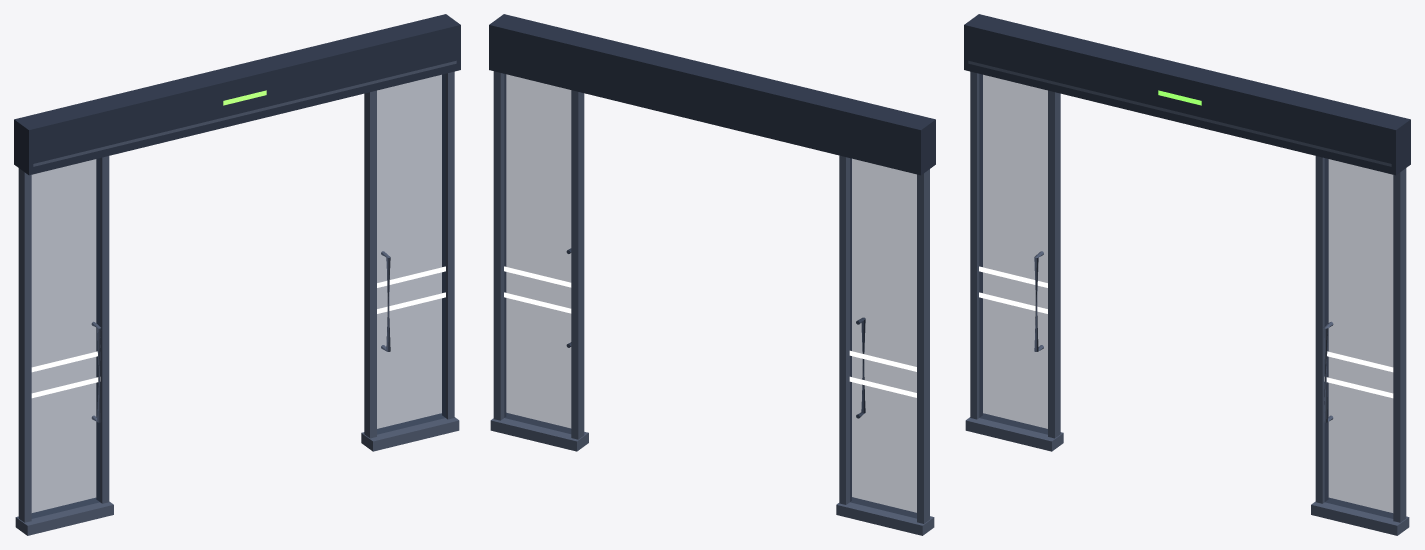
The model's file is off_glass_partition_door.glb.
3 renders of one model, left to right at view 1: azimuth 30°, elevation 25°; view 2: azimuth 150°, elevation 25°; view 3: azimuth 330°, elevation 25°, orthographic.
Parts seen in each view (by area): view 1: sliding_glass, head_track, pull, frit_band; view 2: sliding_glass, head_track, pull, frit_band; view 3: sliding_glass, head_track, pull, frit_band.
Part boxes in pixels (x1=…): sliding_glass: x1=32, y1=74, x2=445, y2=518; head_track: x1=14, y1=14, x2=460, y2=175; pull: x1=15, y1=60, x2=459, y2=535; frit_band: x1=31, y1=266, x2=445, y2=398; sliding_glass: x1=504, y1=74, x2=916, y2=518; head_track: x1=489, y1=14, x2=935, y2=175; pull: x1=490, y1=71, x2=934, y2=535; frit_band: x1=504, y1=266, x2=916, y2=397; sliding_glass: x1=979, y1=74, x2=1392, y2=518; head_track: x1=964, y1=14, x2=1410, y2=175; pull: x1=965, y1=60, x2=1409, y2=535; frit_band: x1=979, y1=266, x2=1393, y2=398.
Size of the model in its own units: 4 by 3.6 by 0.24.
